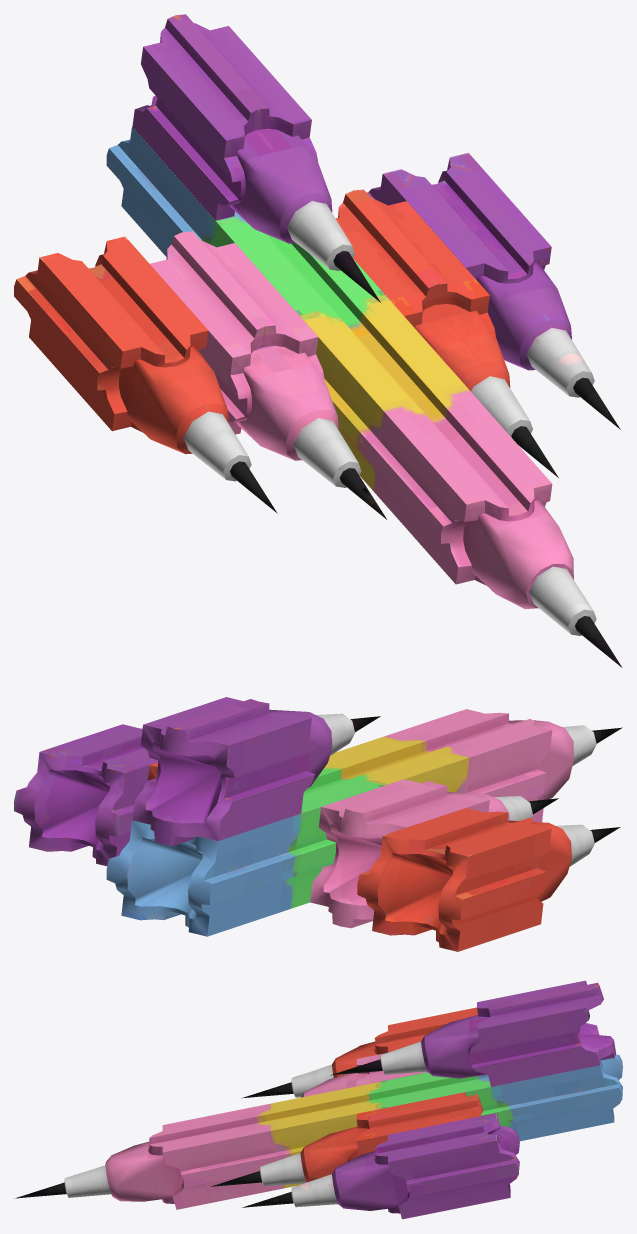
File: ref_gtplanepen.fbx
The picture shows the model from 3 angles, top to bottom: view 1: azimuth 30°, elevation 25°; view 2: azimuth 150°, elevation 25°; view 3: azimuth 270°, elevation 25°; orthographic projection. The views are drawn at different scales.
Parts seen in each view (by area): view 1: ref_gtplanepen; view 2: ref_gtplanepen; view 3: ref_gtplanepen.
Boxes of the visible parts, x1=… form: ref_gtplanepen: x1=14, y1=14, x2=622, y2=667; ref_gtplanepen: x1=14, y1=697, x2=622, y2=951; ref_gtplanepen: x1=14, y1=980, x2=622, y2=1219.
Bounding box in the file's own units: 55.4 × 38.69 × 100.
1 material, 1 textured.
